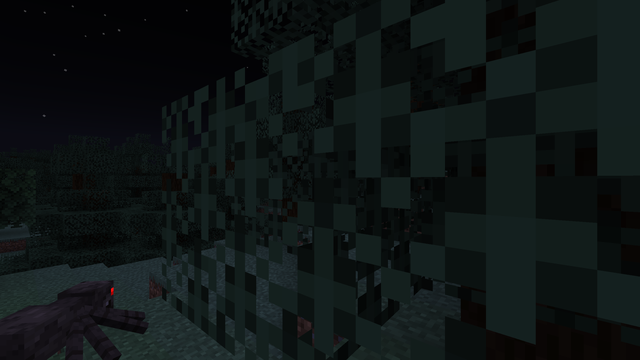araignees: (28, 270, 133, 359)
